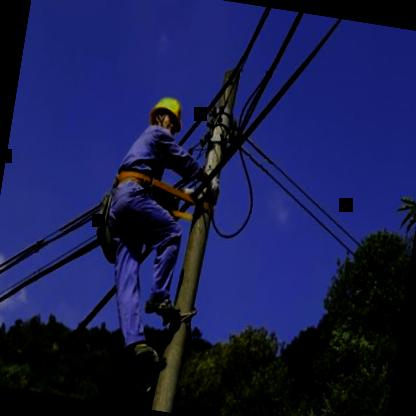helmet: (145, 88, 188, 140)
